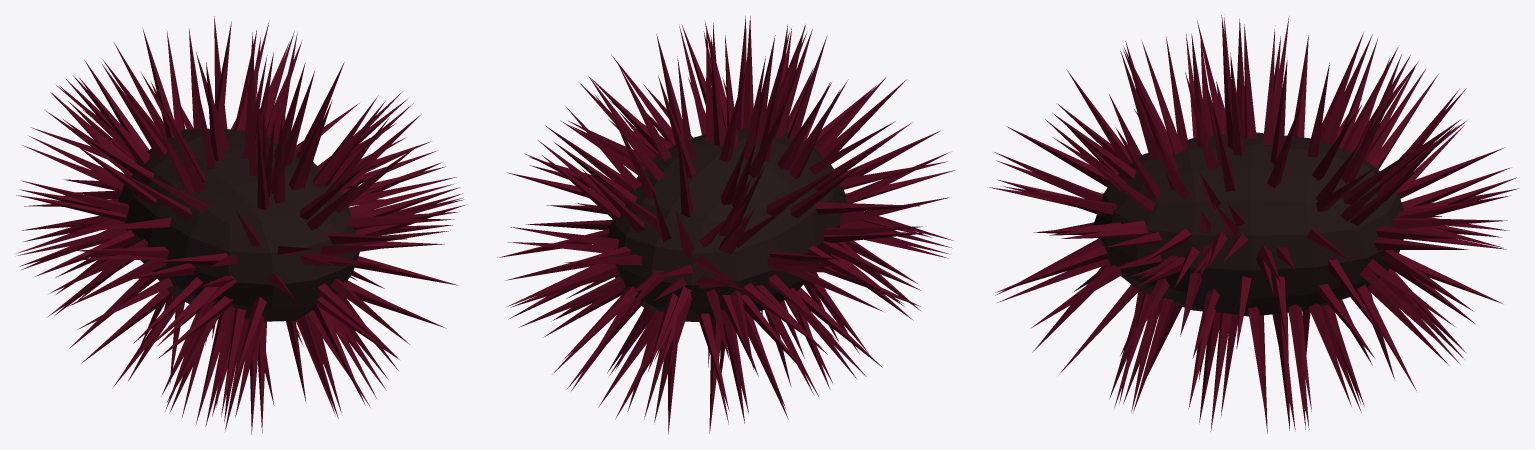
Rendered from Mesh_SeaUrchin.obj.
3 views of the same model, side by side, from view 1: azimuth 30°, elevation 25°; view 2: azimuth 150°, elevation 25°; view 3: azimuth 270°, elevation 25° (orthographic). The views are drawn at different scales.
Parts seen in each view (by area): view 1: Geo_SeaUrchin; view 2: Geo_SeaUrchin; view 3: Geo_SeaUrchin.
Boxes of the visible parts, x1=… form: Geo_SeaUrchin: x1=16, y1=16, x2=464, y2=434; Geo_SeaUrchin: x1=497, y1=16, x2=955, y2=434; Geo_SeaUrchin: x1=987, y1=15, x2=1519, y2=433.
Bounding box in the file's own units: 6.56 × 5.96 × 7.79.
1 material, 1 textured.
